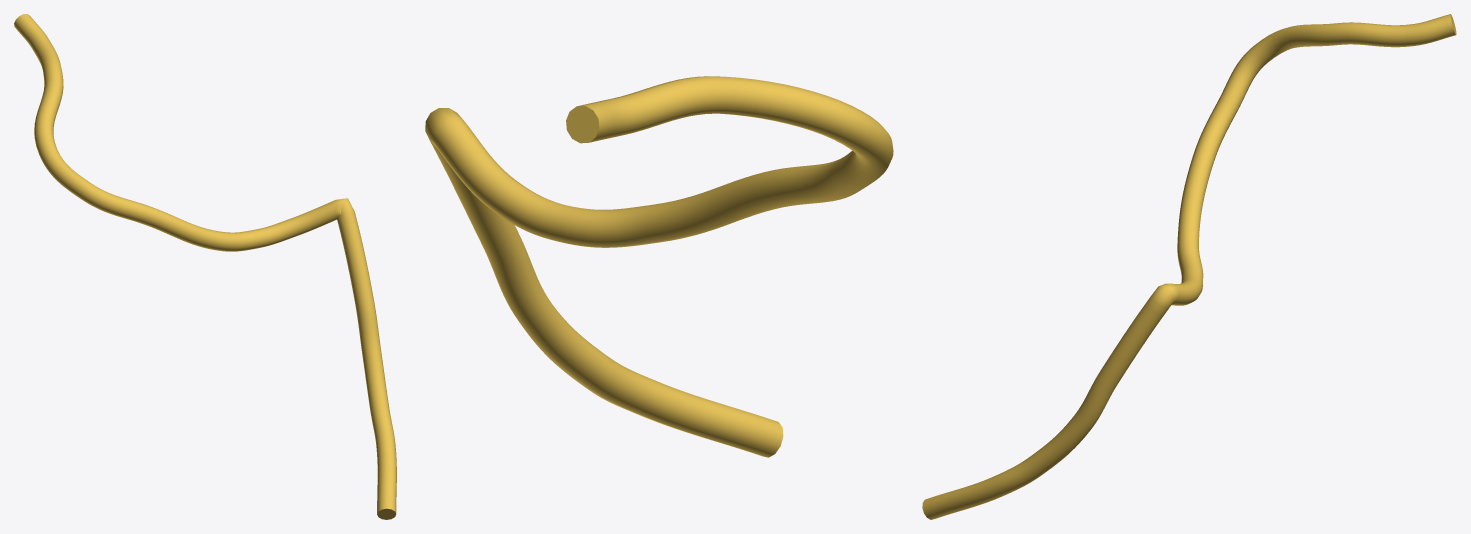
File: Chorda_tympani_right.glb
The picture shows the model from 3 angles, left to right: view 1: azimuth 30°, elevation 25°; view 2: azimuth 150°, elevation 25°; view 3: azimuth 270°, elevation 25°; orthographic projection. The views are drawn at different scales.
Parts seen in each view (by area): view 1: Chorda_tympani.r_BezierCurve.545; view 2: Chorda_tympani.r_BezierCurve.545; view 3: Chorda_tympani.r_BezierCurve.545.
Boxes of the visible parts, bbox=[...] form: Chorda_tympani.r_BezierCurve.545: bbox=[14, 14, 396, 519]; Chorda_tympani.r_BezierCurve.545: bbox=[425, 76, 893, 457]; Chorda_tympani.r_BezierCurve.545: bbox=[922, 14, 1456, 519].
Size of the model in its own units: 0.0162 by 0.0214 by 0.0242.
